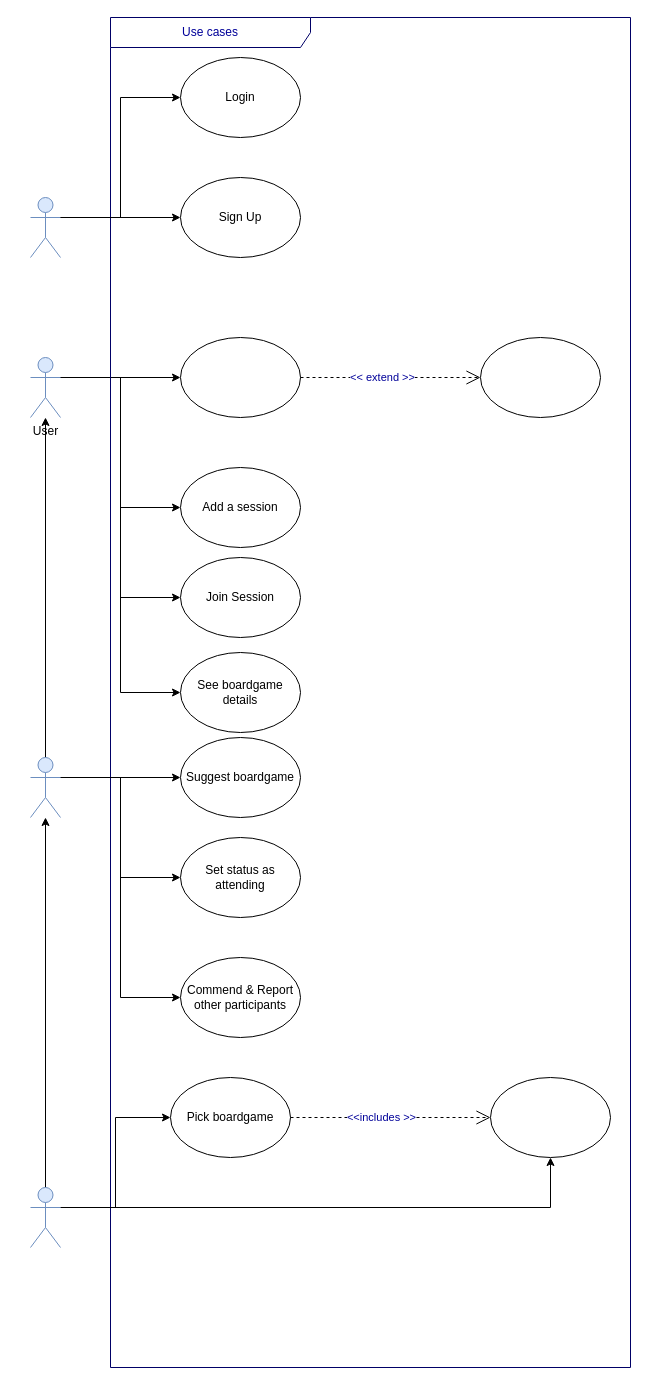
Image size: 648x1385. Some labels were removed from this diagram. The box of each missing label's shape, as (x1, y1, x2, y2) in pixels:
Change game state: (490, 1076, 610, 1158)
Host: (30, 1186, 60, 1248)
List all sessions: (180, 336, 300, 418)
Participant: (30, 756, 60, 818)
See details of one session: (480, 336, 600, 418)
Visitor: (30, 196, 60, 258)
